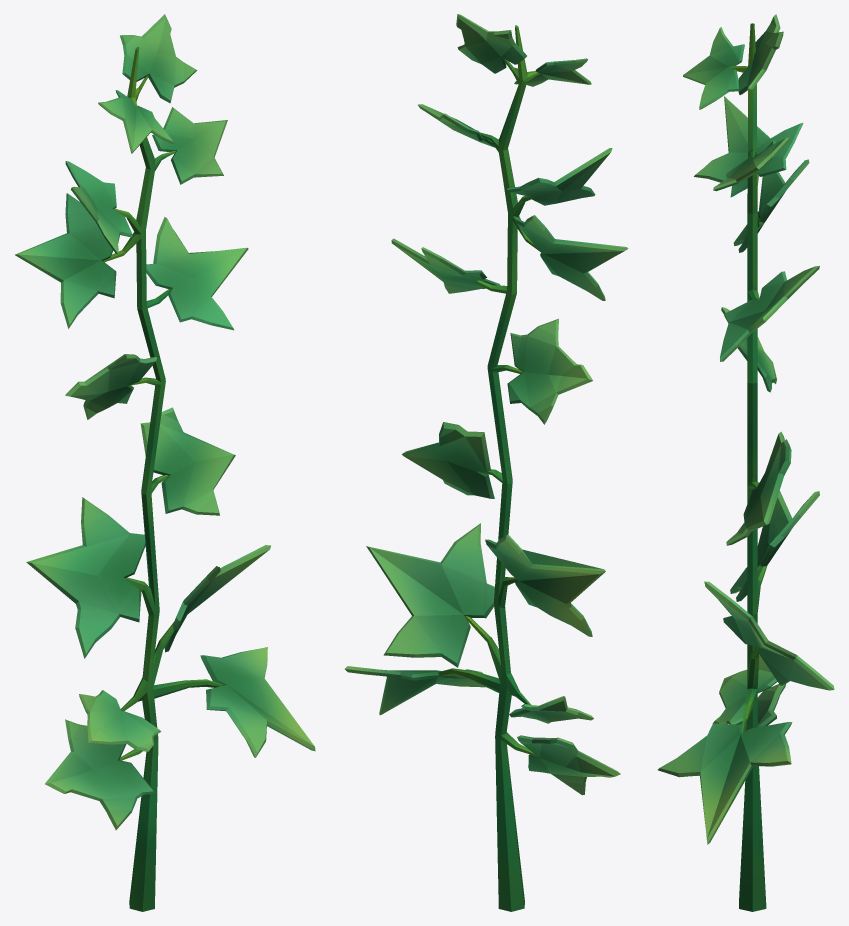
Rendered from Ivy.obj.
3 views of the same model, side by side, from view 1: azimuth 30°, elevation 25°; view 2: azimuth 150°, elevation 25°; view 3: azimuth 270°, elevation 25° (orthographic). The views are drawn at different scales.
Visible parts, largest first — view 1: Ivy_mesh; view 2: Ivy_mesh; view 3: Ivy_mesh.
Part boxes in pixels (x1,y1,x2,y2): Ivy_mesh: [15, 14, 315, 911]; Ivy_mesh: [345, 14, 628, 911]; Ivy_mesh: [658, 14, 834, 911].
Size of the model in its own units: 3.31 by 10.11 by 1.82.
Materials: 1 (1 with a texture image).
